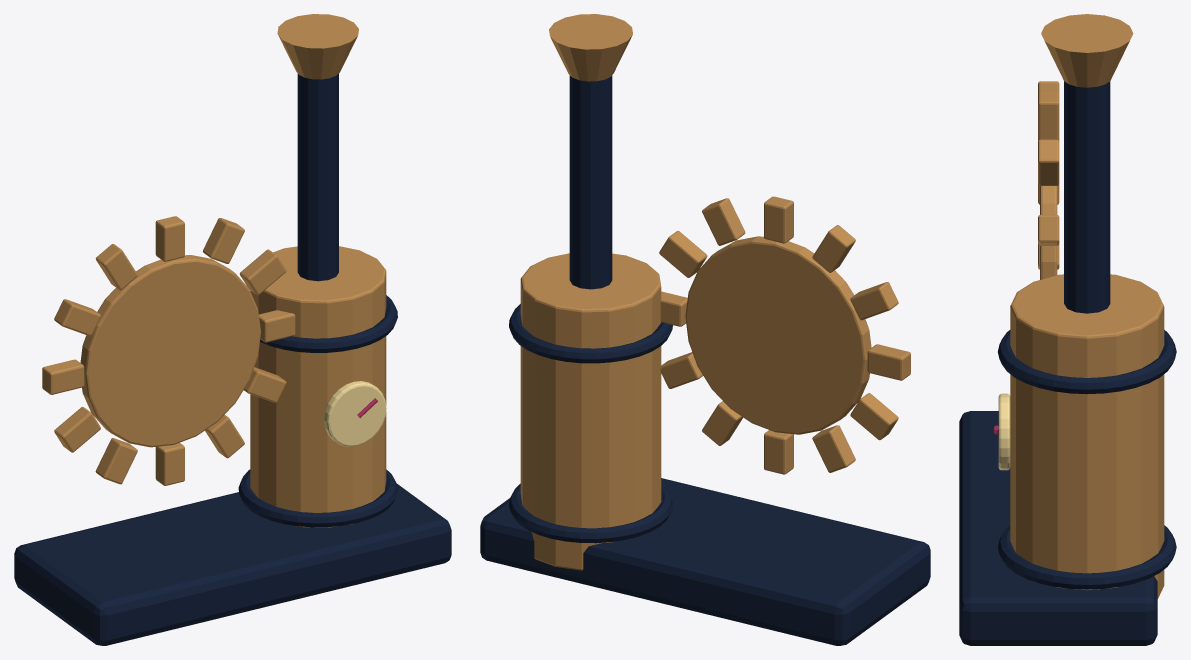
File: Region_backroom.fbx
3 views of the same model, side by side, from view 1: azimuth 30°, elevation 25°; view 2: azimuth 150°, elevation 25°; view 3: azimuth 270°, elevation 25° (orthographic). The views are drawn at different scales.
Parts seen in each view (by area): view 1: Region_backroom.Mesh, Region_backroom.Gear.Mesh; view 2: Region_backroom.Mesh, Region_backroom.Gear.Mesh; view 3: Region_backroom.Mesh, Region_backroom.Gear.Mesh.
Part boxes in pixels (x1,y1,x2,y2): Region_backroom.Mesh: (14, 14, 451, 645); Region_backroom.Gear.Mesh: (42, 216, 295, 485); Region_backroom.Mesh: (480, 14, 930, 645); Region_backroom.Gear.Mesh: (659, 196, 910, 474); Region_backroom.Mesh: (959, 14, 1176, 645); Region_backroom.Gear.Mesh: (1038, 81, 1059, 279).
Bounding box in the file's own units: 249 × 328 × 113.
